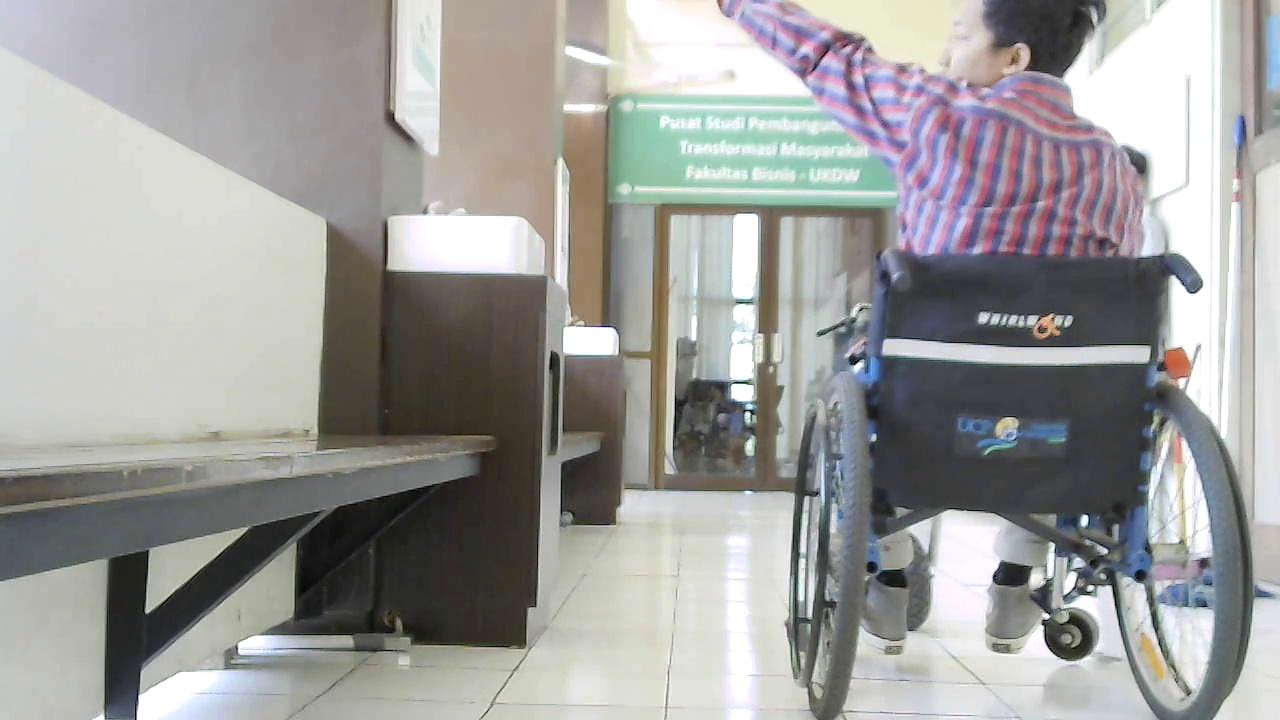person: (719, 0, 1171, 649)
wheelchair: (766, 238, 1265, 720)
